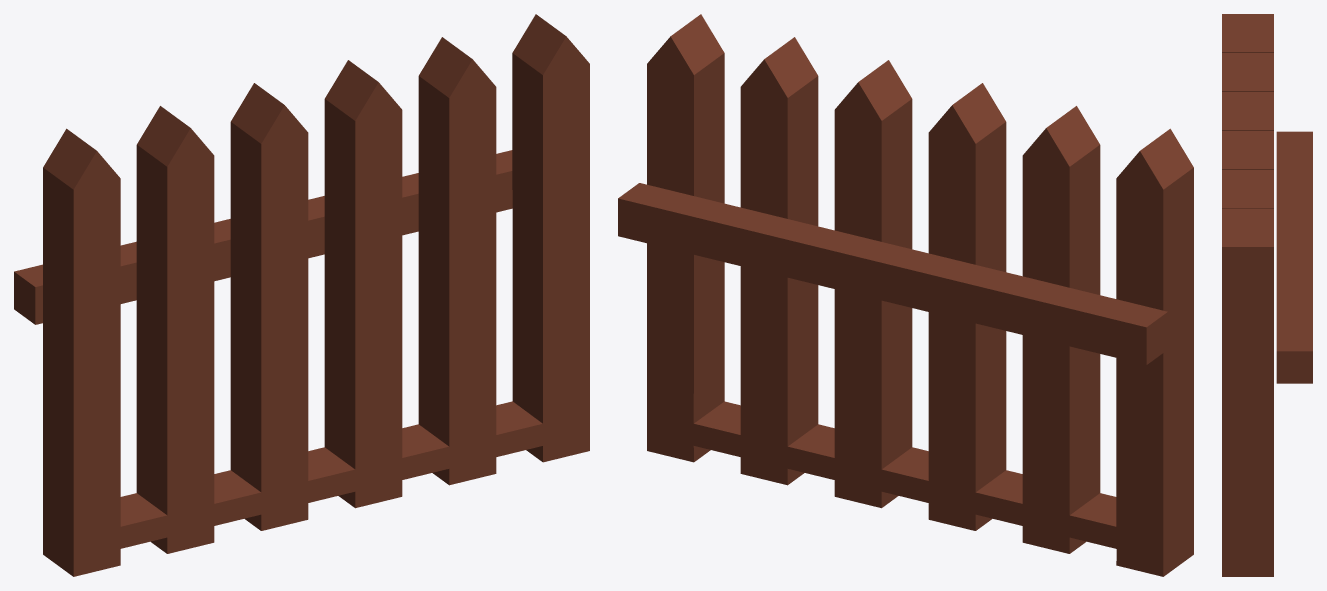
The model's file is Picket Fence main.fbx.
3 views of the same model, side by side, from view 1: azimuth 30°, elevation 25°; view 2: azimuth 150°, elevation 25°; view 3: azimuth 270°, elevation 25° (orthographic). The views are drawn at different scales.
Parts seen in each view (by area): view 1: Picket Fence main; view 2: Picket Fence main; view 3: Picket Fence main.
Boxes of the visible parts, x1,y1,x2,y2 form: Picket Fence main: (14, 14, 589, 576); Picket Fence main: (618, 14, 1193, 576); Picket Fence main: (1222, 14, 1312, 576).
Bounding box in the file's own units: 100 × 76 × 17.5.
